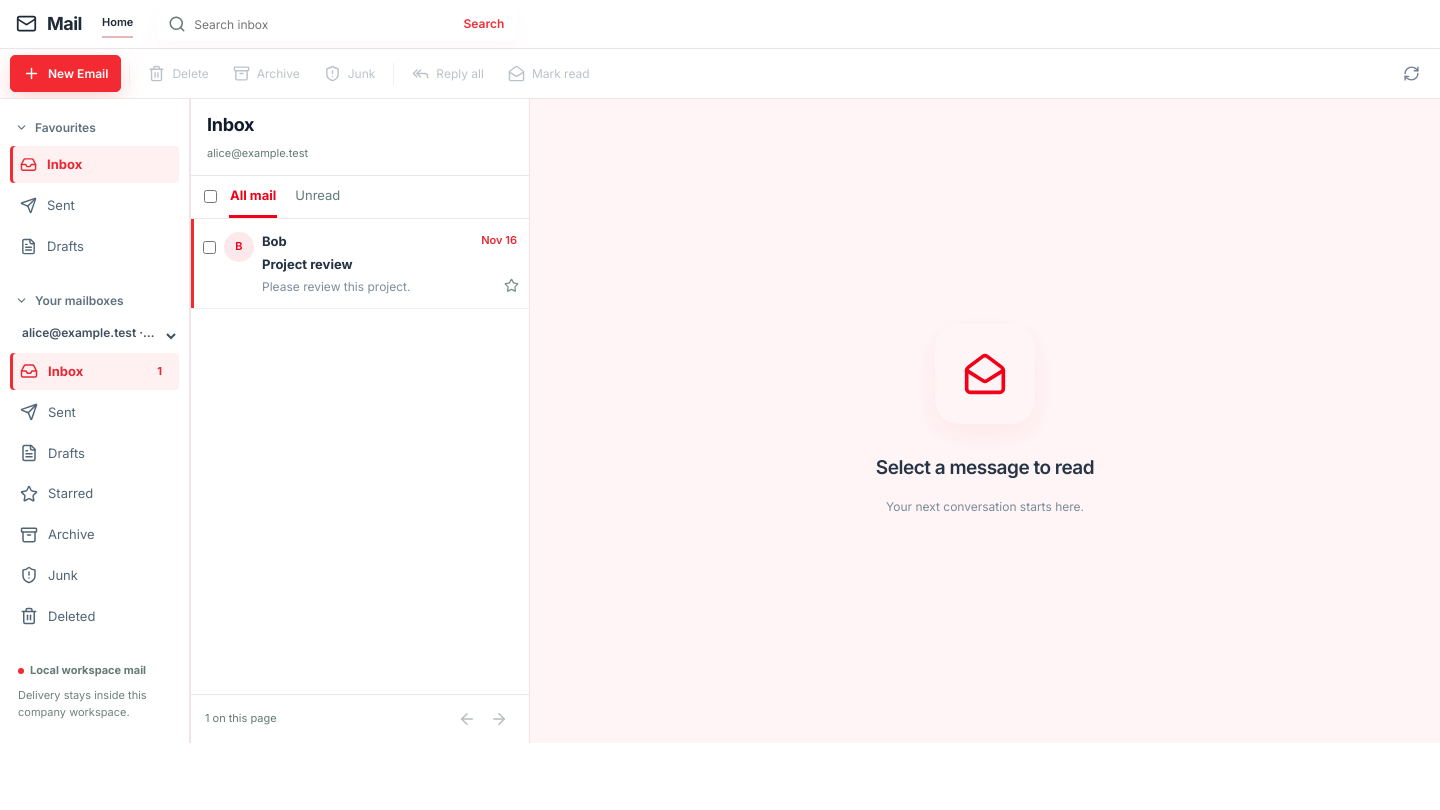
Test: Email inbox interactions › freezes an uncertain send instead of allowing a duplicate
This screenshot has width=1440, height=810.
Click the button "New Email": x=66, y=74 [10,55,121,92]
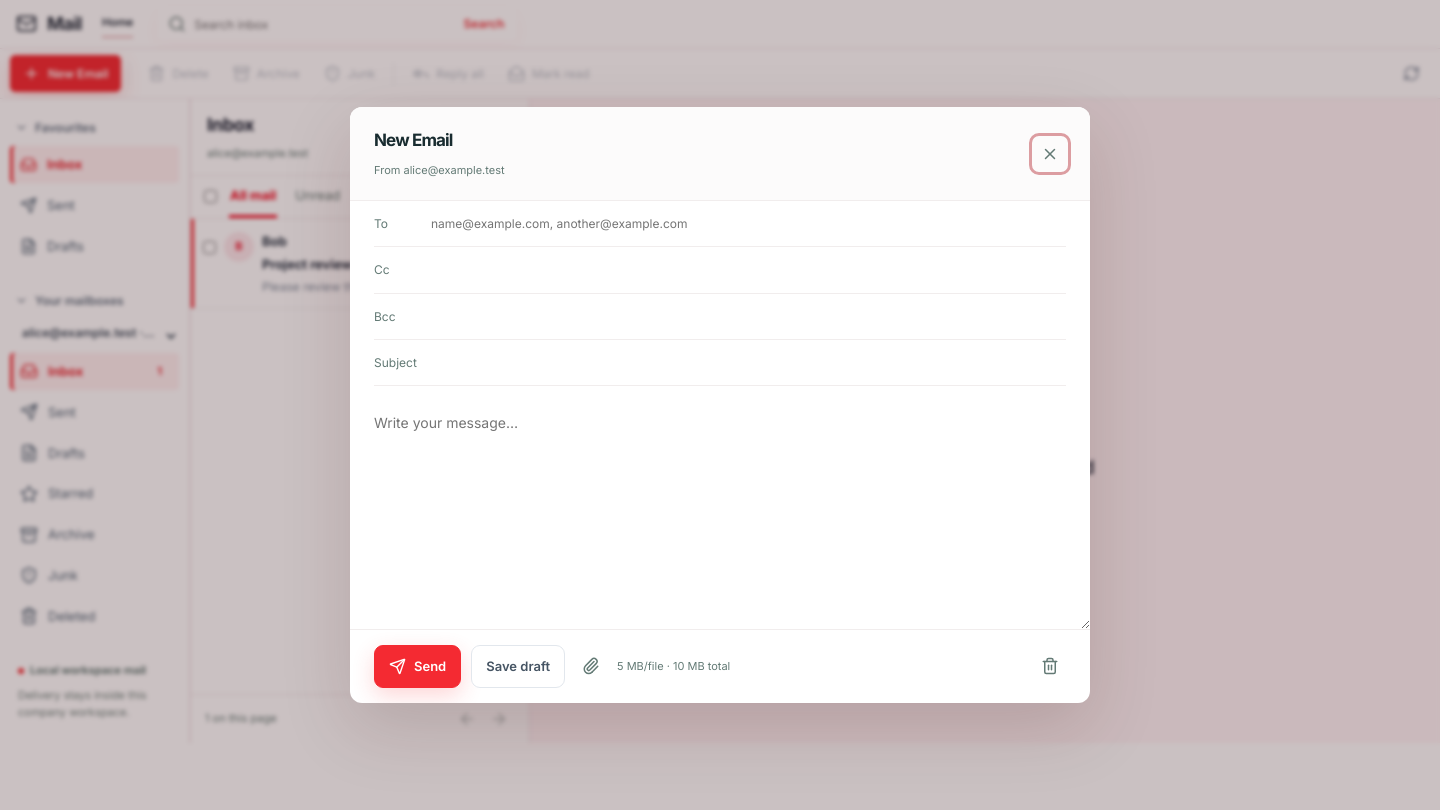
In the field named "To recipients": x=748, y=224 [431,201,1066,246], type "bob@example.test"
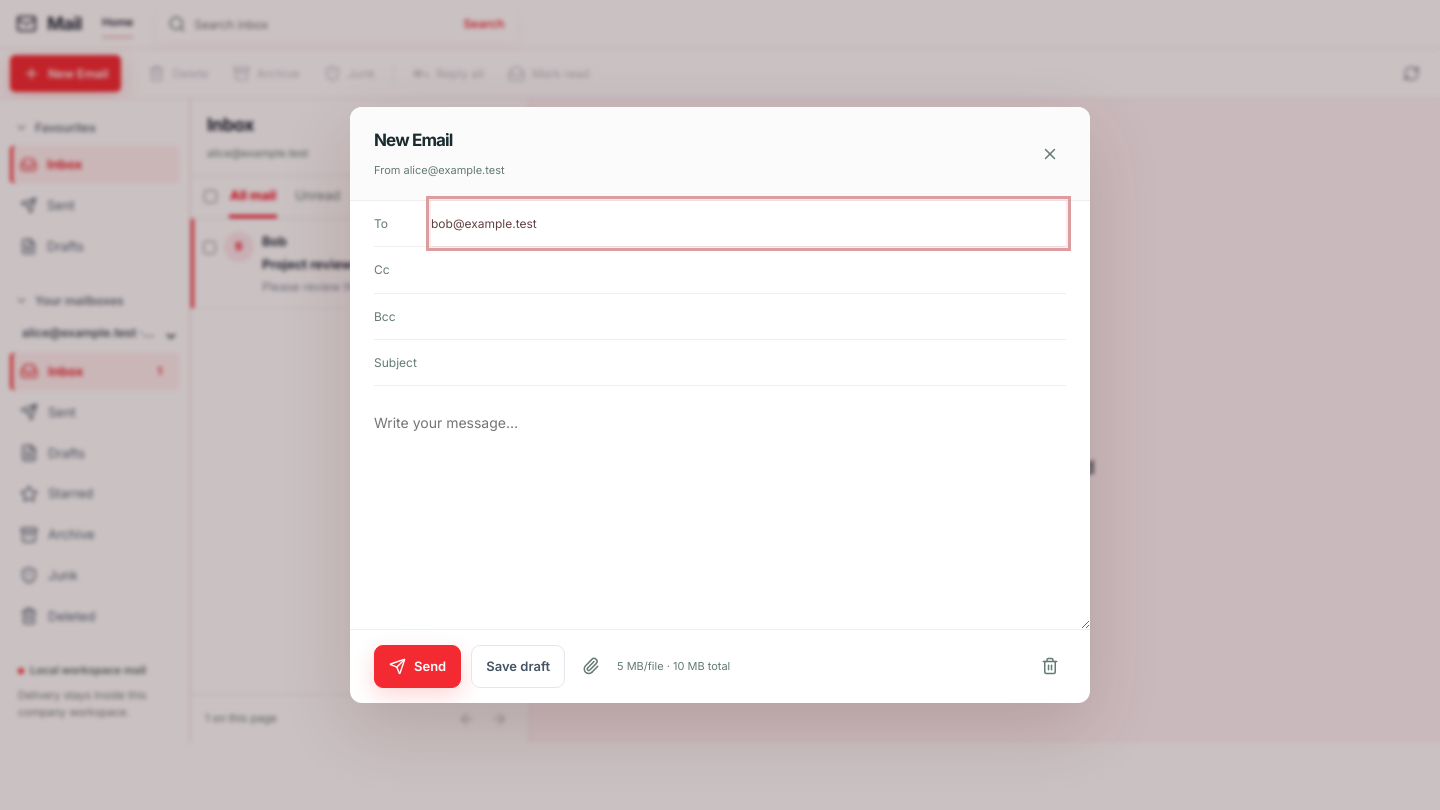
Click the button "Send": x=418, y=666 [374,645,461,688]
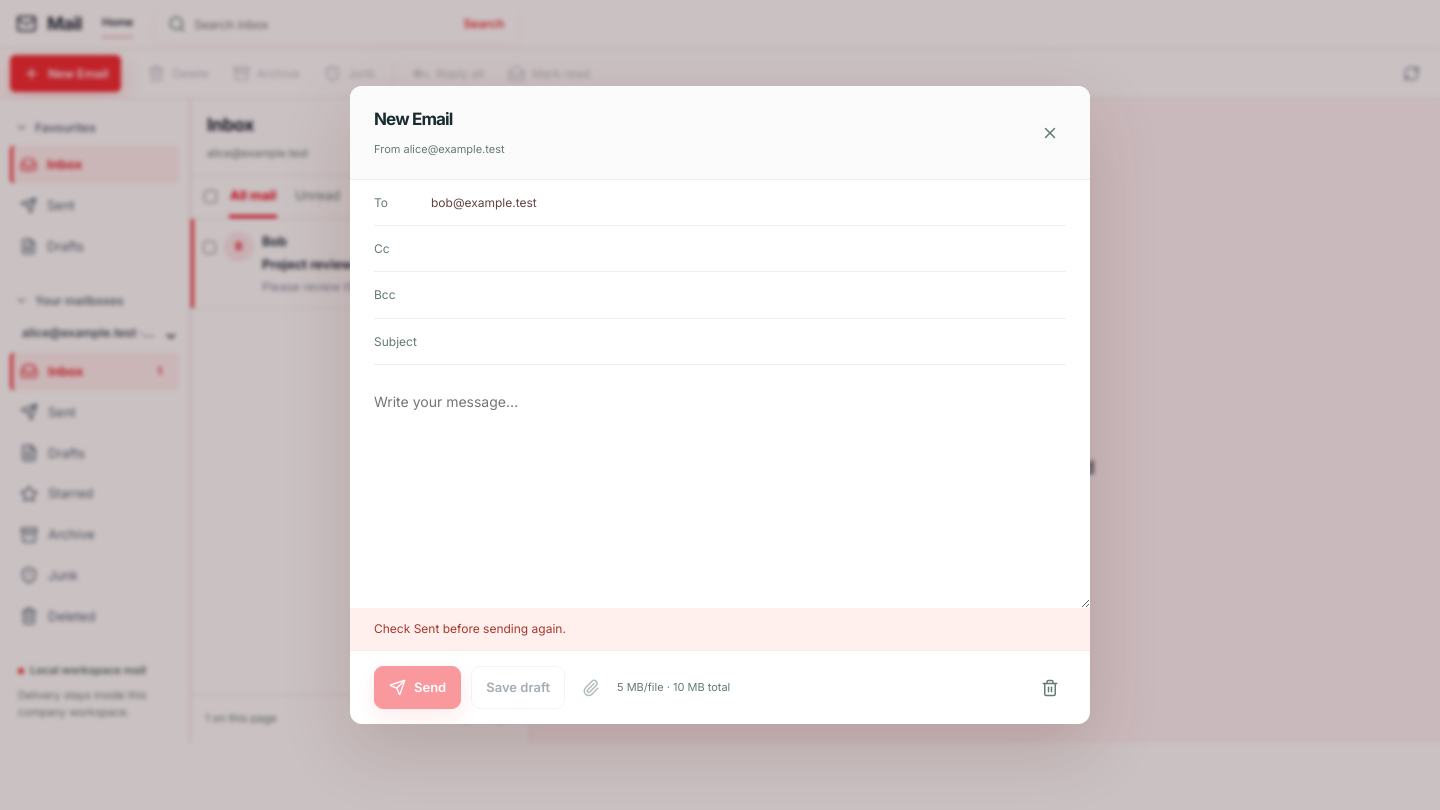
Expected: the text "Check Sent before sending again." is shown, [350,608,1090,650]
Expected: the button "Send" is disabled, [374,666,461,709]
